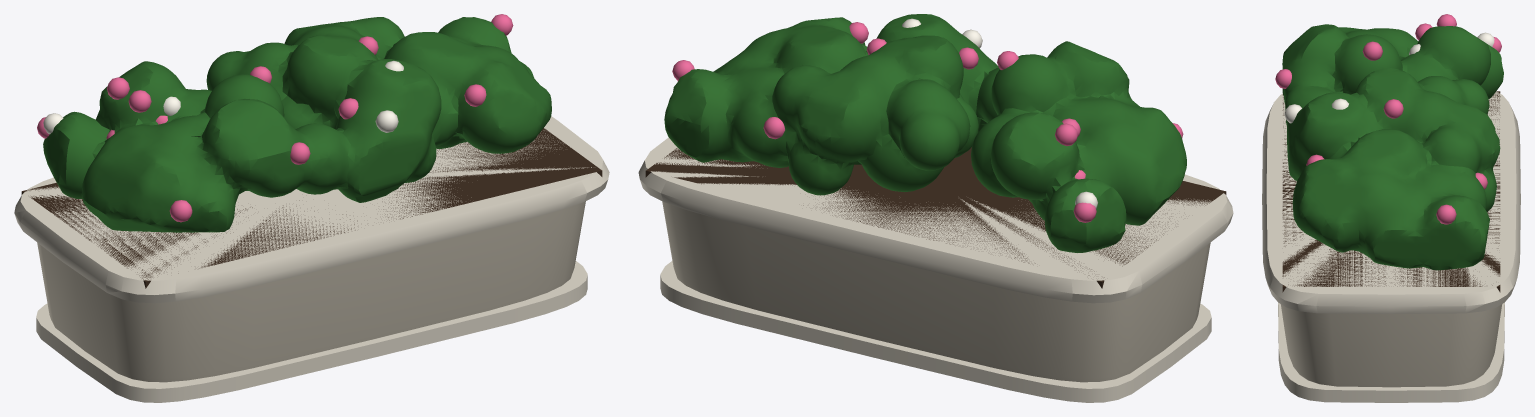
Rendered from stadium-planter.glb.
3 views of the same model, side by side, from view 1: azimuth 30°, elevation 25°; view 2: azimuth 150°, elevation 25°; view 3: azimuth 270°, elevation 25° (orthographic). The views are drawn at different scales.
Parts seen in each view (by area): view 1: hedge, body, rim, soil, plinth; view 2: hedge, body, rim, soil, plinth; view 3: hedge, rim, body, plinth, soil, flower13, flower10, flower26, flower17.
Boxes of the visible parts, left/top/right/bottom form: hedge: left=43, top=17, right=551, bottom=232; body: left=37, top=201, right=585, bottom=382; rim: left=14, top=116, right=609, bottom=303; soil: left=21, top=128, right=602, bottom=288; plinth: left=36, top=261, right=587, bottom=402; hedge: left=664, top=14, right=1186, bottom=252; body: left=662, top=201, right=1210, bottom=382; rim: left=638, top=137, right=1233, bottom=303; soil: left=645, top=147, right=1226, bottom=288; plinth: left=660, top=261, right=1211, bottom=402; hedge: left=1282, top=24, right=1503, bottom=270; rim: left=1262, top=91, right=1520, bottom=313; body: left=1280, top=304, right=1502, bottom=387; plinth: left=1278, top=302, right=1504, bottom=402; soil: left=1282, top=91, right=1500, bottom=292; flower13: left=1436, top=204, right=1456, bottom=224; flower10: left=1383, top=99, right=1403, bottom=118; flower26: left=1362, top=41, right=1382, bottom=60; flower17: left=1275, top=69, right=1291, bottom=88.
Size of the model in its own units: 2.24 by 1.13 by 1.14.
